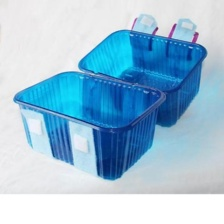plastic_box: (7, 8, 213, 186)
